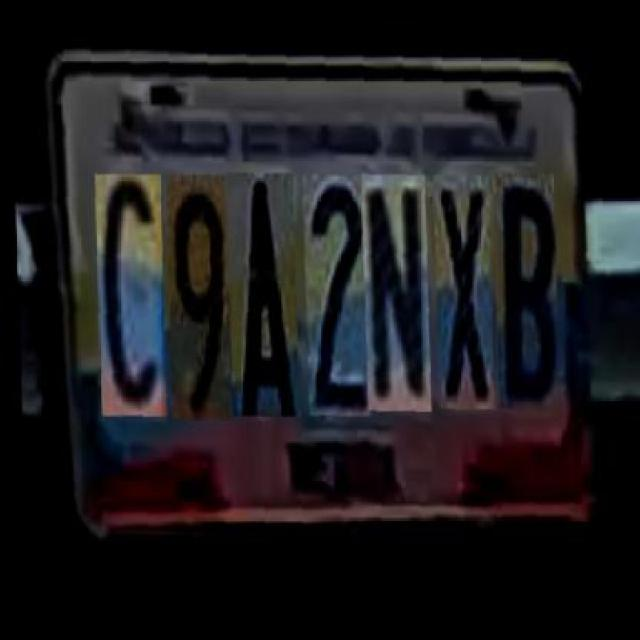2: (294, 166, 363, 408)
9: (158, 170, 225, 416)
a: (218, 166, 293, 409)
b: (484, 158, 553, 396)
c: (87, 171, 161, 414)
n: (353, 164, 425, 402)
x: (424, 162, 488, 398)
